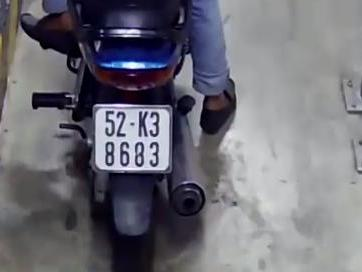num_plate: (91, 102, 172, 173)
